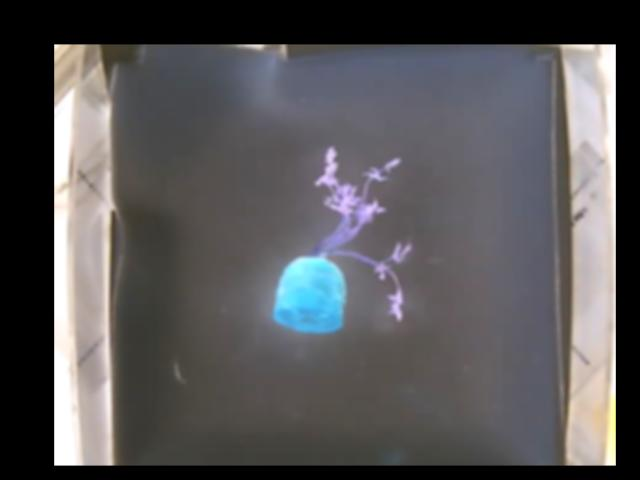Carrot: (274, 147, 408, 332)
